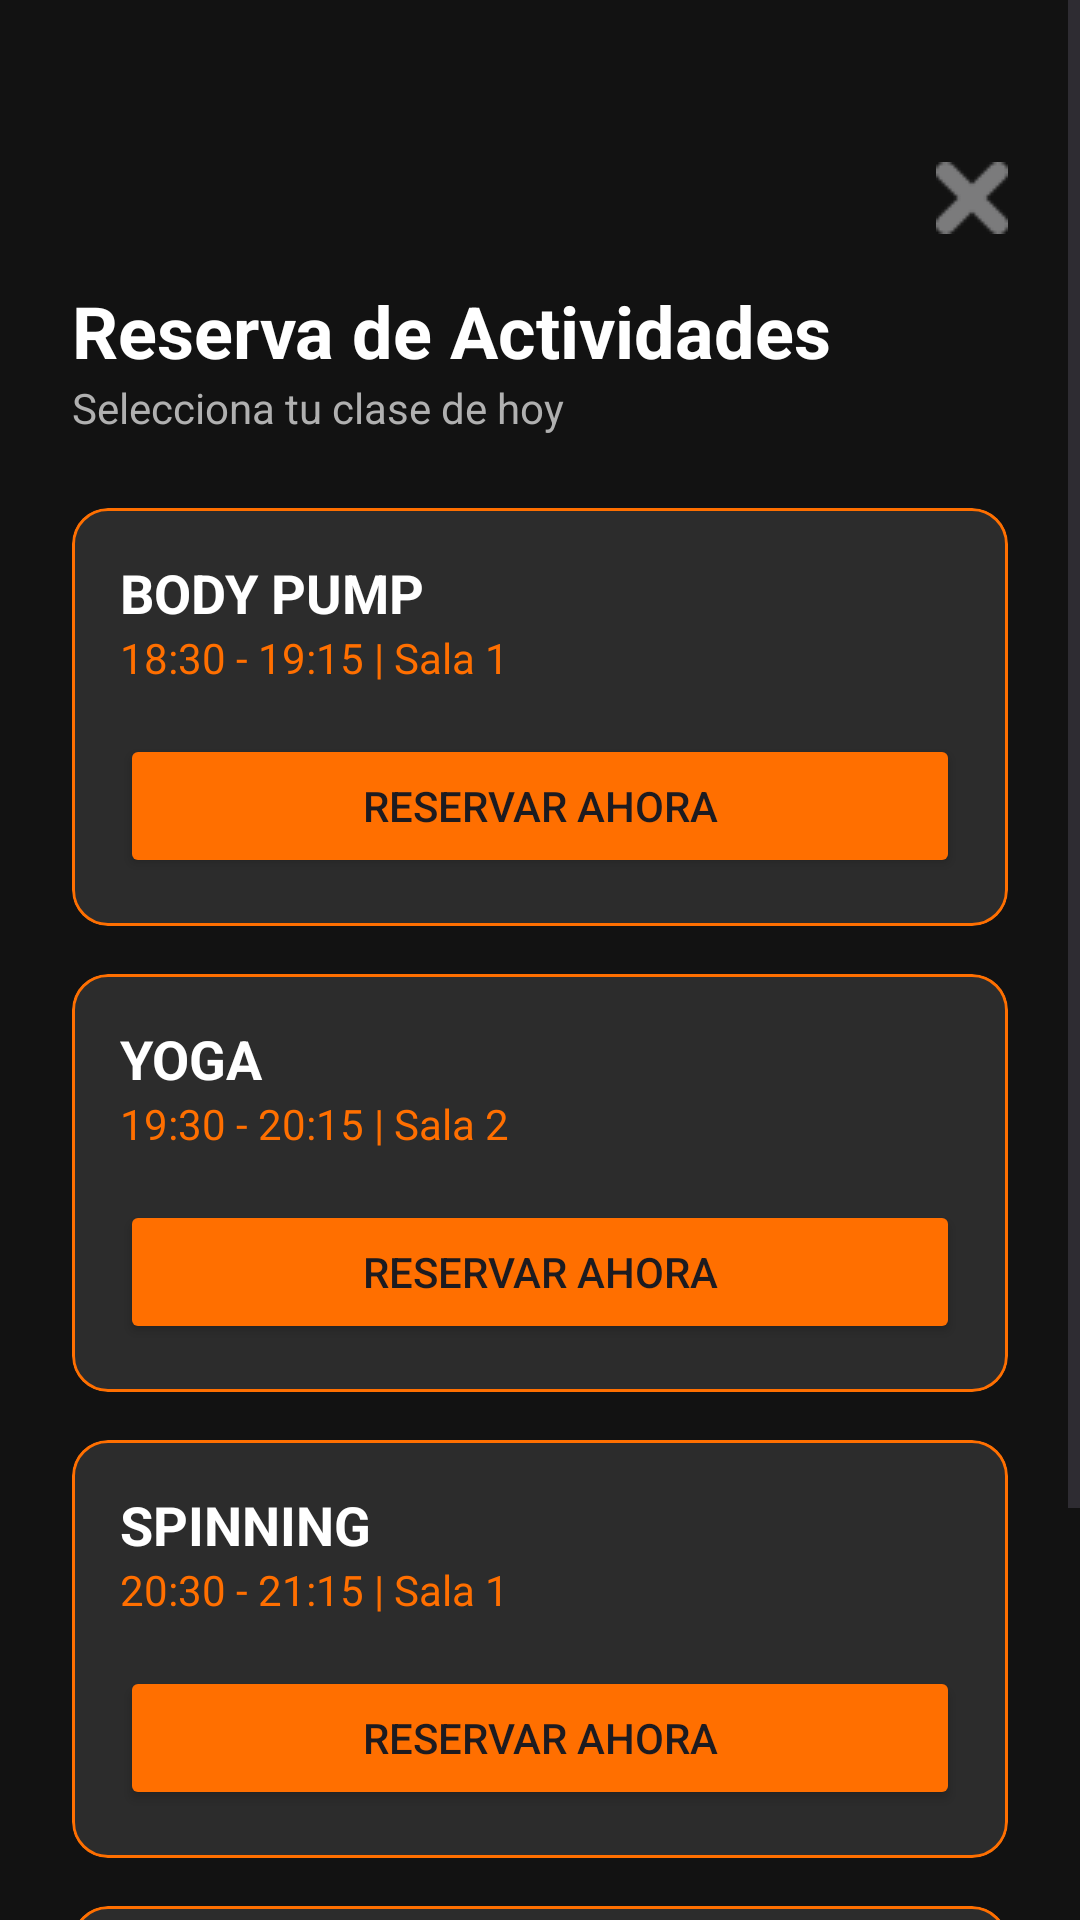

Where icons sit on this 1080 x 1920 app screen, as bbox=(x1, y1, x2, y2):
Cerrar: bbox=(936, 162, 1008, 234)
